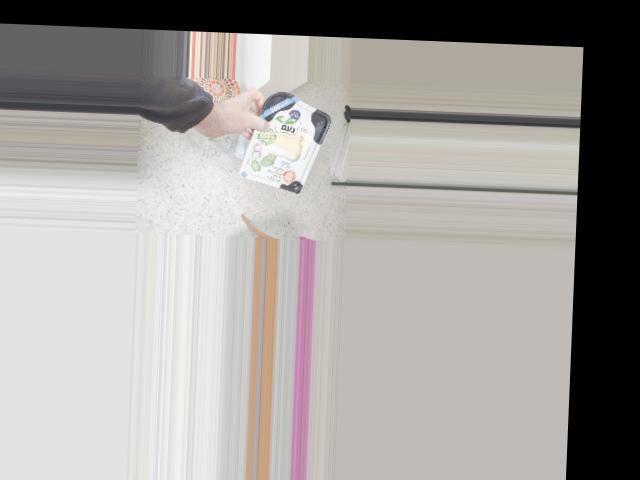cheese: (247, 94, 318, 192)
